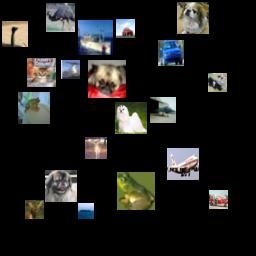airplane: (167, 148, 199, 180), (150, 97, 176, 123), (208, 73, 227, 92), (61, 60, 80, 79)
automobile: (158, 40, 184, 66), (116, 19, 135, 38)
bird: (46, 3, 75, 32), (2, 21, 28, 47)
cat: (27, 58, 56, 87)
deer: (85, 137, 107, 159), (25, 200, 44, 219)
dog: (88, 60, 126, 98), (115, 102, 147, 134), (177, 2, 209, 34), (45, 170, 77, 202)
frog: (117, 172, 155, 210), (18, 92, 50, 124)
ship: (78, 20, 113, 55), (78, 203, 94, 219)
truck: (209, 190, 228, 209)
